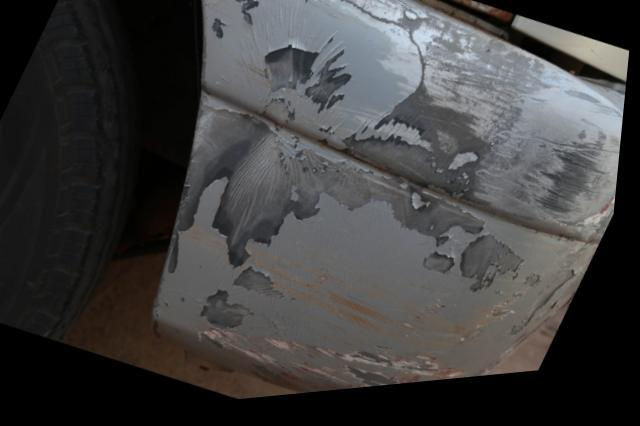rub: (165, 0, 628, 397)
